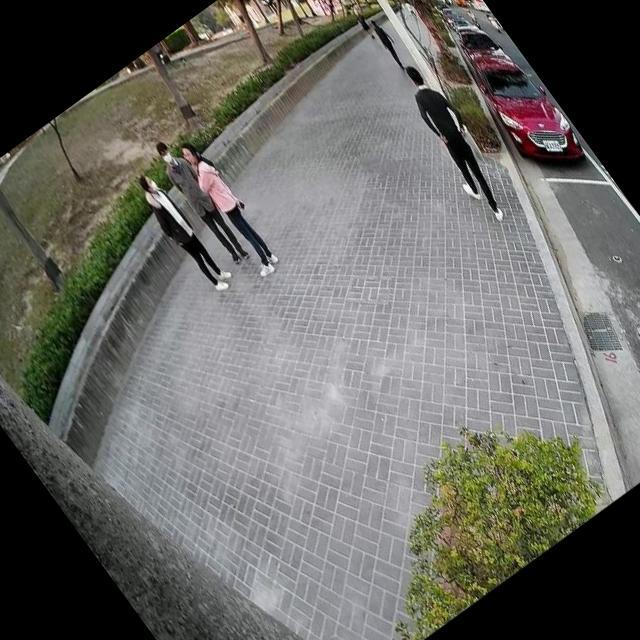person: (380, 50, 529, 232), (164, 128, 289, 283), (142, 130, 258, 272), (123, 160, 239, 301), (360, 9, 412, 73)
